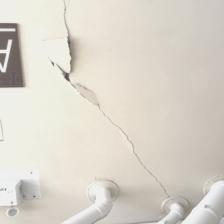Medium: (38, 10, 166, 174)
